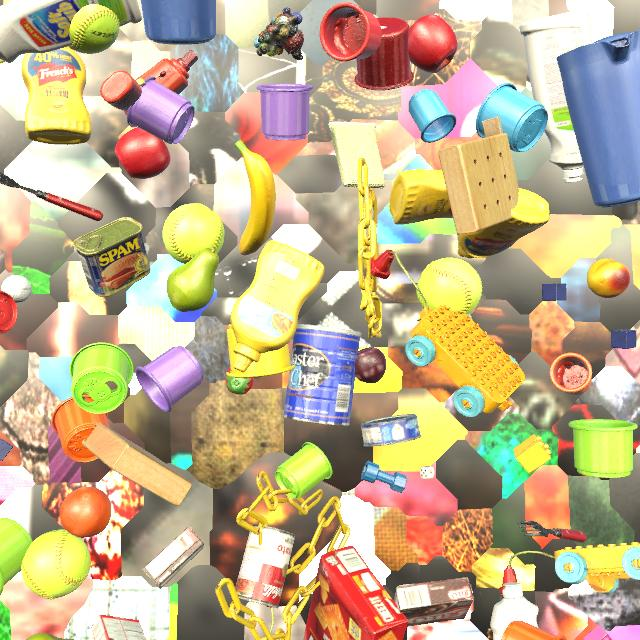ycb_002_master_chef_can: (283, 324, 361, 426)
ycb_003_cracker_box: (303, 545, 408, 640)
ycb_004_sugar_box: (0, 59, 5, 64)
ycb_005_tomato_soup_can: (235, 524, 295, 608)
ycb_006_mustard_bottle: (231, 240, 325, 372), (21, 47, 91, 145), (457, 188, 549, 259), (389, 169, 453, 225)
ycb_007_tuna_fish_can: (361, 414, 421, 447)
ycb_008_pudding_box: (394, 577, 474, 627), (142, 526, 204, 589)
ycb_009_gelatin_box: (91, 614, 146, 640)
ycb_010_potted_meat_can: (73, 217, 151, 297)
ycb_011_banana: (235, 140, 276, 255)
ycb_012_strawberry: (225, 367, 254, 395)
ycb_013_apple: (115, 127, 171, 179), (408, 14, 457, 73)
ycb_015_peach: (587, 258, 630, 298)
ycb_016_pear: (167, 248, 219, 312), (26, 633, 75, 640)
ycb_017_orange: (59, 486, 111, 538)
ycb_018_plum: (355, 347, 387, 384)
